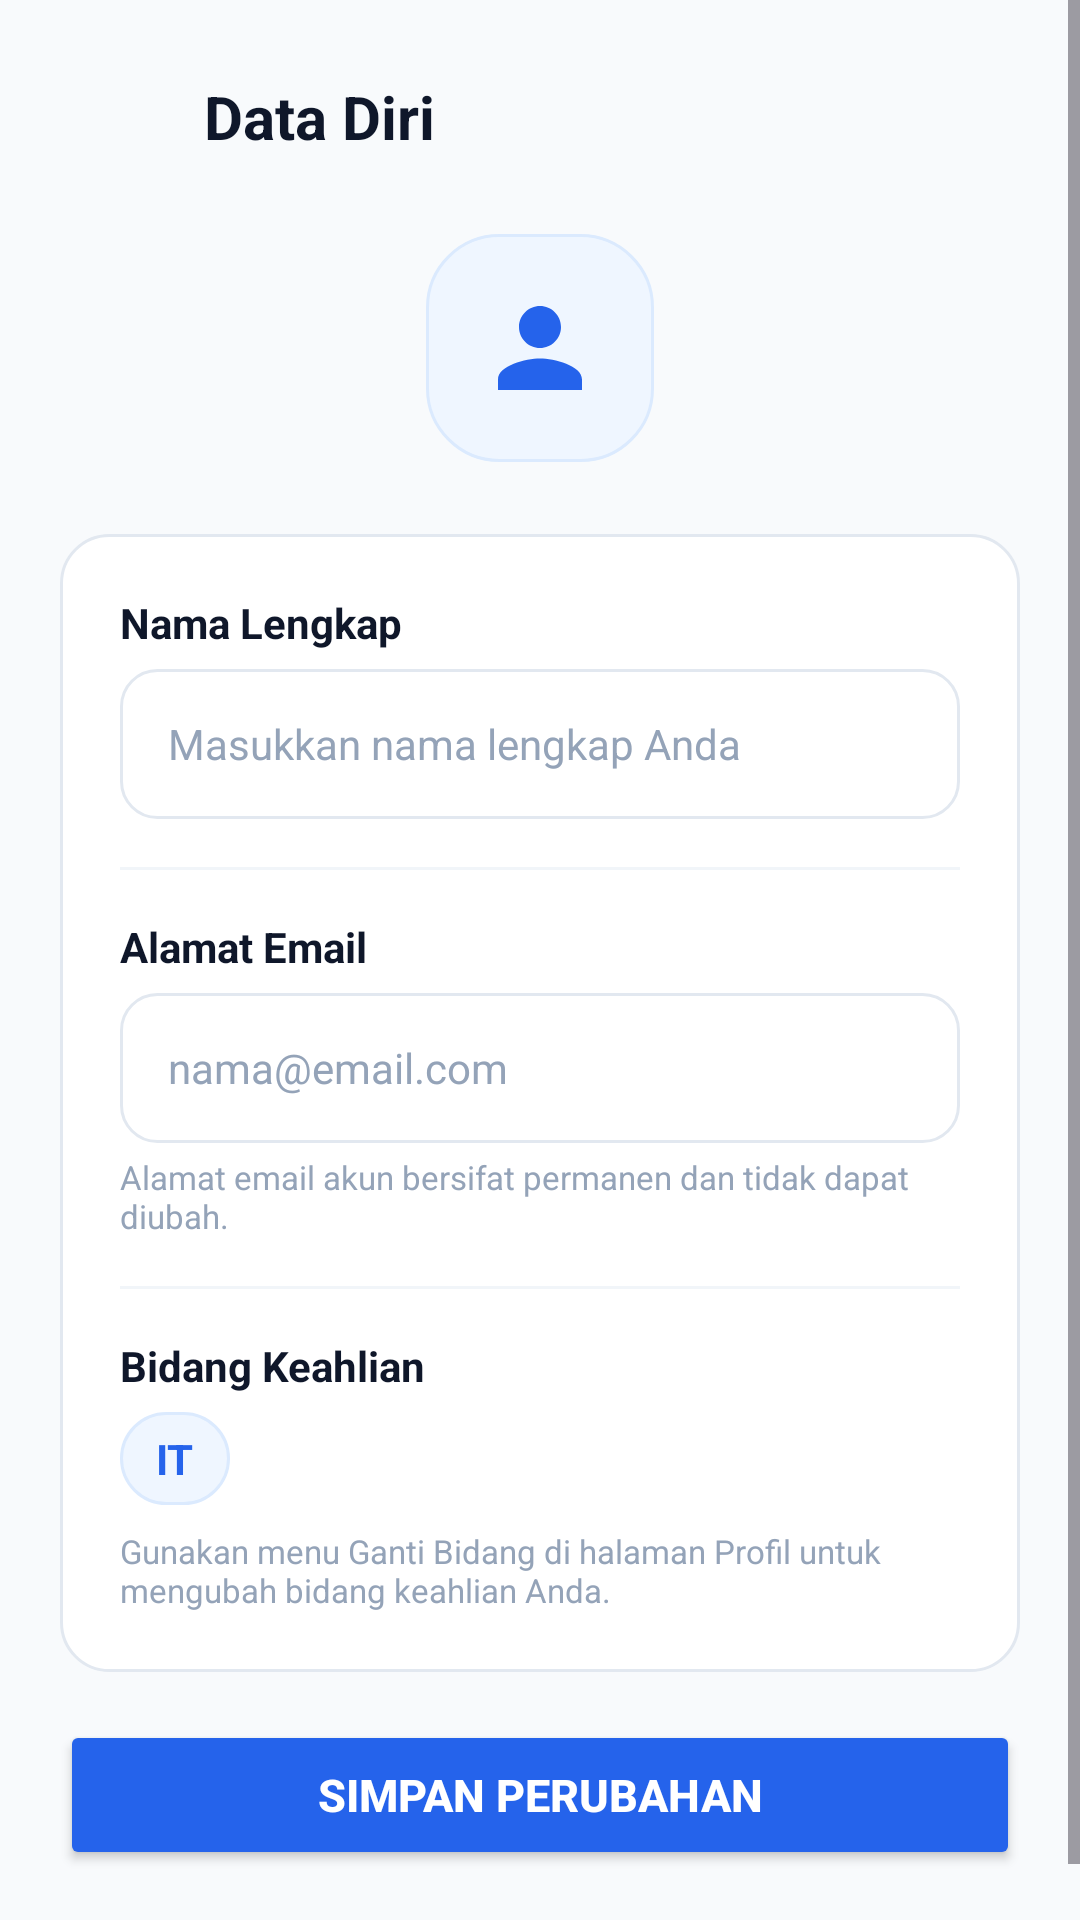

Point at icon controls on the screen. Image size 1080 × 1920, points as (x=x, y=y).
Avatar: (x=540, y=348)
